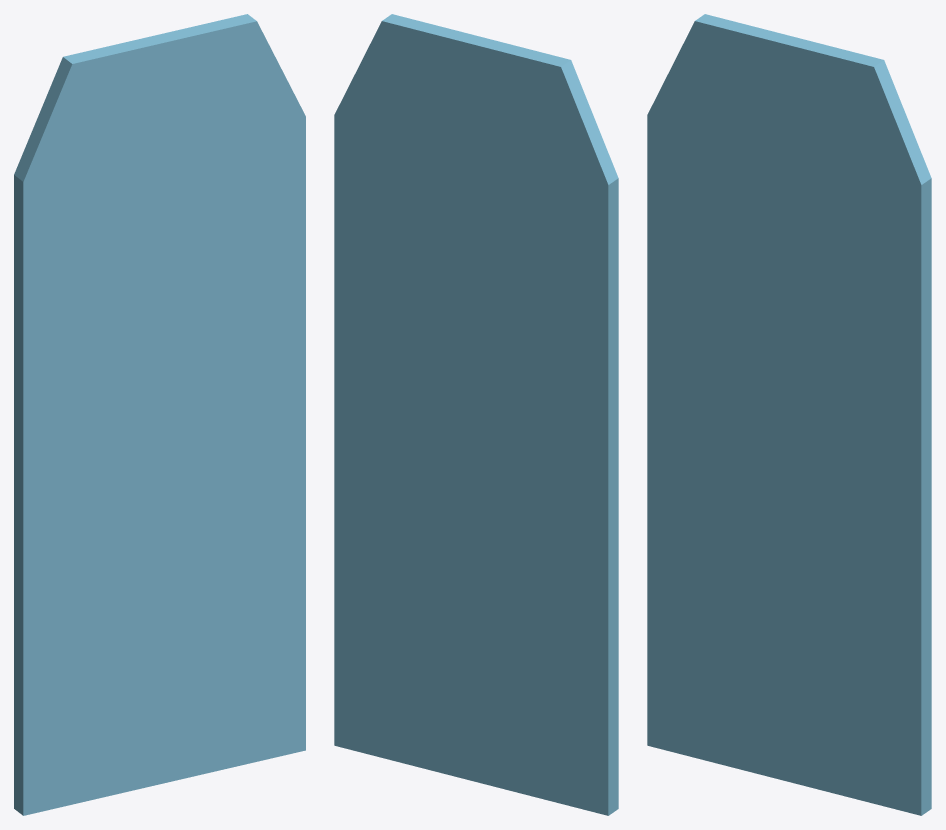
Rendered from Door_Window_BH_type1.fbx.
3 views of the same model, side by side, from view 1: azimuth 30°, elevation 25°; view 2: azimuth 150°, elevation 25°; view 3: azimuth 330°, elevation 25° (orthographic).
Visible parts, largest first — view 1: Door_Window_BH_type1; view 2: Door_Window_BH_type1; view 3: Door_Window_BH_type1.
Boxes of the visible parts, box(x1,y1,x2,y2) form: Door_Window_BH_type1: box(14, 14, 305, 815); Door_Window_BH_type1: box(334, 14, 618, 815); Door_Window_BH_type1: box(647, 14, 931, 815).
Bounding box in the file's own units: 72.2 × 183 × 5.97.
